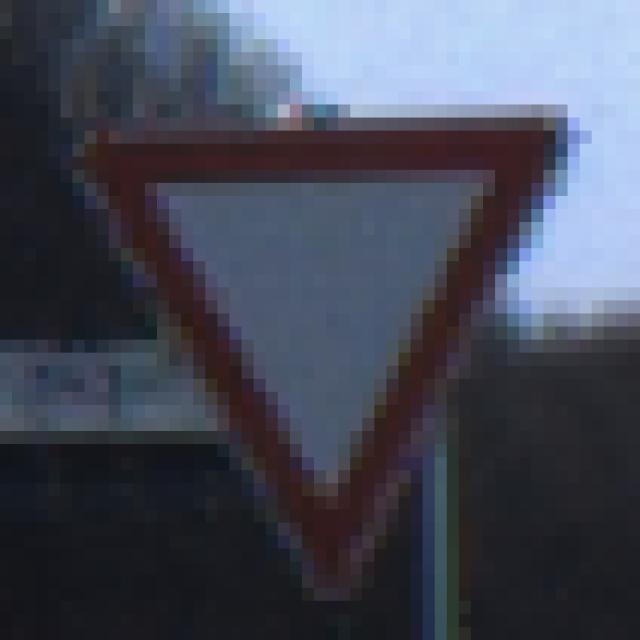Give Way: (62, 79, 581, 576)
